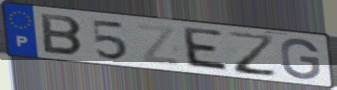5: (90, 18, 130, 61)
B: (39, 12, 86, 58)
E: (182, 25, 231, 74)
G: (279, 37, 323, 81)
Z: (226, 30, 280, 79), (134, 22, 183, 68)
